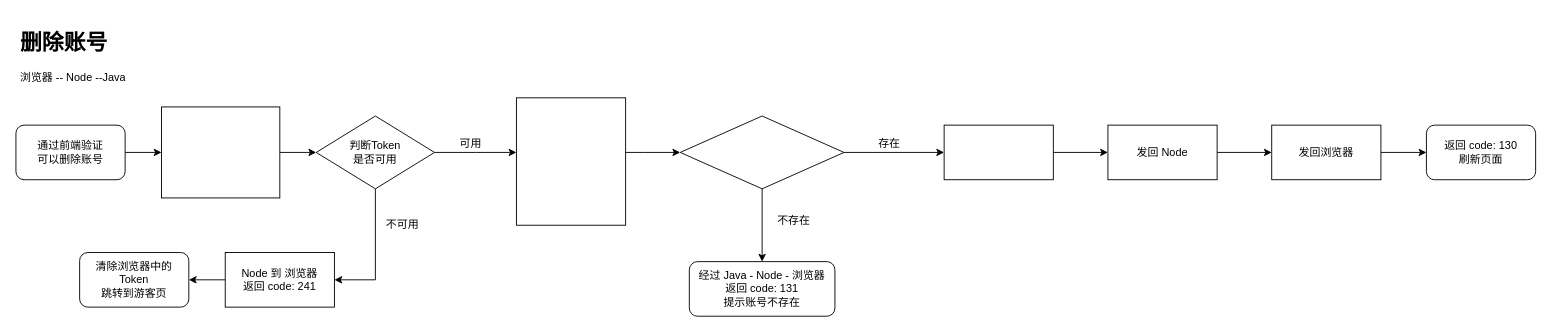
The diagram is 1552 pixels wide and 332 high, and some of its shapes have lost their labels. The centre of each missing label's shape, as x and y in pixels:
"Node 从 Token 解析出 email 并转发 数据请求到 Java 数据有 email 字段" belongs at point (571, 161).
"根据 email 删除用户 返回 code: 130" belongs at point (998, 152).
"浏览器发送 Token 字段到 Node Token 包含用户 email" belongs at point (220, 152).
"用户是否存在" belongs at point (761, 152).
